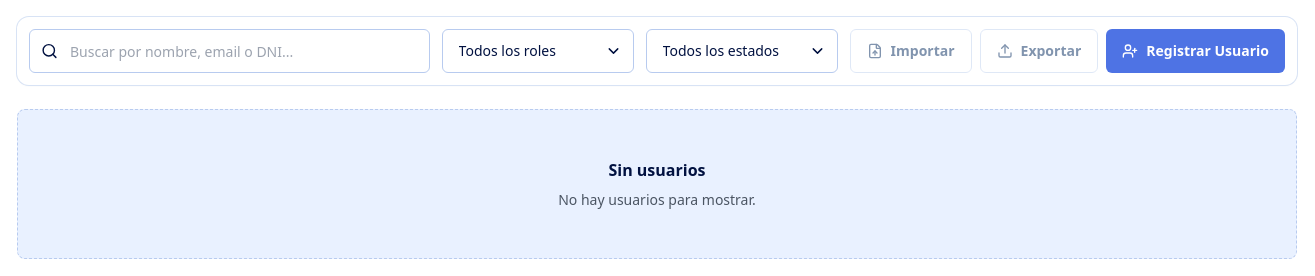
Test: UserListContent › distingue el vacío producido por filtros
Type "nadie" into the search field named "Buscar usuarios" at (229, 51), box x1=29 y1=29 x2=430 y2=73
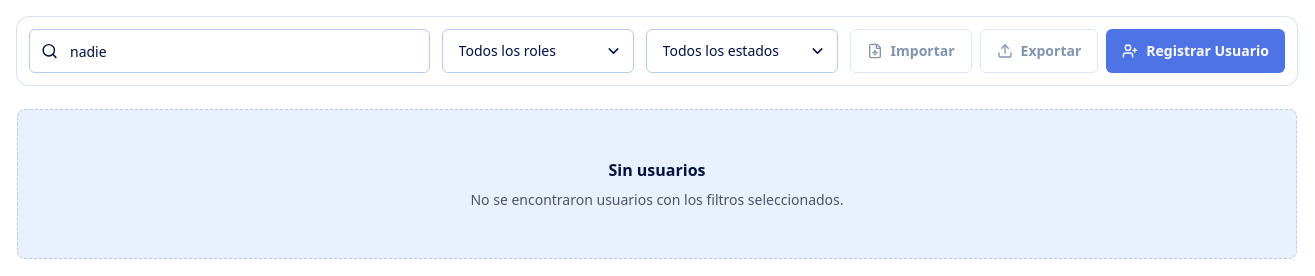
Now the text "No se encontraron usuarios con los filtros seleccionados." is shown, box x1=470 y1=190 x2=844 y2=209
